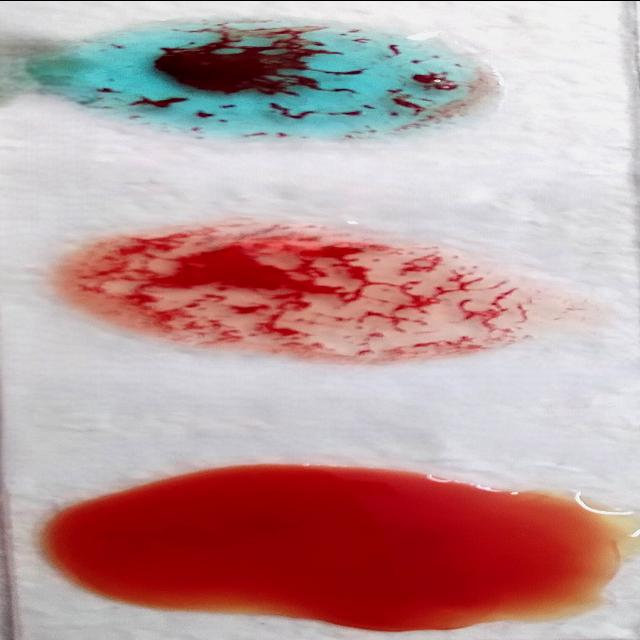A: (21, 22, 507, 134)
D: (66, 226, 526, 360)
